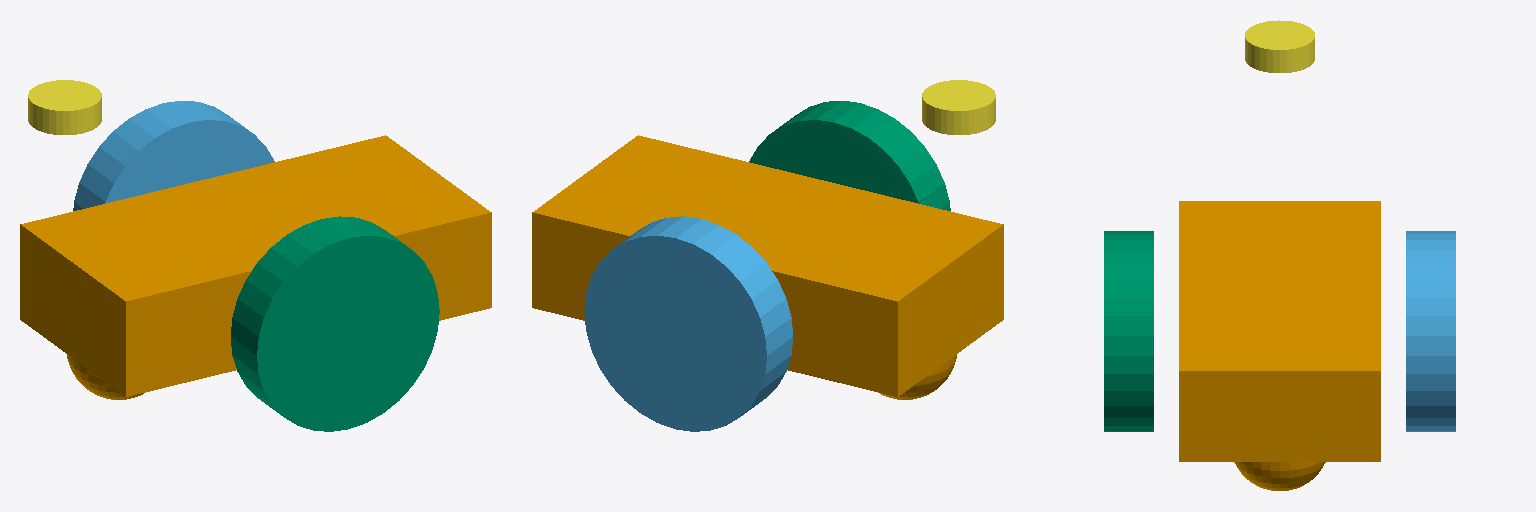
The robot description file, URDF, robot "test_diff_drive":
<?xml version="1.0" ?>
<!-- =================================================================================== -->
<!-- |    This document was autogenerated by xacro from 03_ROS/ghost_sim/urdf/test_tank_init.xacro | -->
<!-- |    EDITING THIS FILE BY HAND IS NOT RECOMMENDED                                 | -->
<!-- =================================================================================== -->
<robot name="test_diff_drive">
  <link name="base_link">
    <pose>0 0 0.1 0 0 0</pose>
    <inertial>
      <mass value="15.0"/>
      <origin rpy=" 0 0 0" xyz="0.0 0 0.1"/>
      <inertia ixx="0.1" ixy="0" ixz="0" iyy="0.1" iyz="0" izz="0.1"/>
    </inertial>
    <collision name="collision">
      <geometry>
        <box size=".4 .2 .1"/>
      </geometry>
    </collision>
    <visual name="chassis_visual">
      <origin rpy=" 0 0 0" xyz="0 0 0"/>
      <geometry>
        <box size=".4 .2 .1"/>
      </geometry>
    </visual>
    <collision name="caster_collision">
      <origin rpy=" 0 0 0" xyz="-0.15 0 -0.05"/>
      <geometry>
        <sphere radius="0.05"/>
      </geometry>
      <surface>
        <friction>
          <ode>
            <mu>0</mu>
            <mu2>0</mu2>
            <slip1>1.0</slip1>
            <slip2>1.0</slip2>
          </ode>
        </friction>
      </surface>
    </collision>
    <visual name="caster_visual">
      <origin rpy=" 0 0 0" xyz="-0.15 0 -0.05"/>
      <geometry>
        <sphere radius="0.05"/>
      </geometry>
    </visual>
    <collision name="caster_front_collision">
      <origin rpy=" 0 0 0" xyz="0.15 0 -0.05"/>
      <geometry>
        <sphere radius="0.05"/>
      </geometry>
      <surface>
        <friction>
          <ode>
            <mu>0</mu>
            <mu2>0</mu2>
            <slip1>1.0</slip1>
            <slip2>1.0</slip2>
          </ode>
        </friction>
      </surface>
    </collision>
    <visual name="caster_front_visual">
      <origin rpy=" 0 0 0" xyz="0.15 0 -0.05"/>
      <geometry>
        <sphere radius="0.05"/>
      </geometry>
    </visual>
  </link>
  <link name="left_wheel">
    <!--origin xyz="0.1 0.13 0.1" rpy="0 1.5707 1.5707"/-->
    <collision name="collision">
      <origin rpy="0 1.5707 1.5707" xyz="0 0 0"/>
      <geometry>
        <cylinder length="0.05" radius="0.1"/>
      </geometry>
    </collision>
    <visual name="left_wheel_visual">
      <origin rpy="0 1.5707 1.5707" xyz="0 0 0"/>
      <geometry>
        <cylinder length="0.05" radius="0.1"/>
      </geometry>
    </visual>
    <inertial>
      <origin rpy="0 1.5707 1.5707" xyz="0 0 0"/>
      <mass value="5"/>
      <inertia ixx=".1" ixy="0.0" ixz="0.0" iyy=".1" iyz="0.0" izz=".1"/>
    </inertial>
  </link>
  <link name="right_wheel">
    <!--origin xyz="0.1 -0.13 0.1" rpy="0 1.5707 1.5707"/-->
    <collision name="collision">
      <origin rpy="0 1.5707 1.5707" xyz="0 0 0"/>
      <geometry>
        <cylinder length="0.05" radius="0.1"/>
      </geometry>
    </collision>
    <visual name="right_wheel_visual">
      <origin rpy="0 1.5707 1.5707" xyz="0 0 0"/>
      <geometry>
        <cylinder length="0.05" radius="0.1"/>
      </geometry>
    </visual>
    <inertial>
      <origin rpy="0 1.5707 1.5707" xyz="0 0 0"/>
      <mass value="5"/>
      <inertia ixx=".1" ixy="0.0" ixz="0.0" iyy=".1" iyz="0.0" izz=".1"/>
    </inertial>
  </link>
  <joint name="left_wheel_hinge" type="continuous">
    <origin rpy="0 0 0" xyz="0 0.15 0"/>
    <!--origin xyz="0.1 0.13 0" rpy="0 1.5707 1.5707"/-->
    <child link="left_wheel"/>
    <parent link="base_link"/>
    <axis rpy="0 0 0" xyz="0 1 0"/>
    <limit effort="10000" velocity="1000"/>
    <joint_properties damping="1.0" friction="1.0"/>
  </joint>
  <joint name="right_wheel_hinge" type="continuous">
    <origin rpy="0 0 0" xyz="0 -0.15 0"/>
    <!--origin xyz="0.1 -0.13 0" rpy="0 1.5707 1.5707"/-->
    <child link="right_wheel"/>
    <parent link="base_link"/>
    <axis rpy="0 0 0" xyz="0 1 0"/>
    <limit effort="10000" velocity="1000"/>
    <joint_properties damping="1.0" friction="1.0"/>
  </joint>
  <!-- Sensors -->
  <link name="lidar_link">
    <inertial>
      <origin rpy="0 0 0" xyz="0.0 0 0.0"/>
      <mass value="0.125"/>
      <inertia ixx="0.001" ixy="0" ixz="0" iyy="0.001" iyz="0" izz="0.001"/>
    </inertial>
    <visual>
      <origin rpy="0 0 0" xyz="0 0 0"/>
      <geometry>
        <cylinder length="0.0254" radius="0.034925"/>
      </geometry>
    </visual>
  </link>
  <joint name="lidar_joint" type="fixed">
    <parent link="base_link"/>
    <child link="lidar_link"/>
    <origin rpy="0 0 1.179178353222222" xyz="-0.209 0 0.2145"/>
  </joint>
  <link name="imu_link">
    <inertial>
      <origin rpy="0 0 0" xyz="0.0 0 0.0"/>
      <mass value="0.125"/>
      <inertia ixx="0.001" ixy="0" ixz="0" iyy="0.001" iyz="0" izz="0.001"/>
    </inertial>
    <visual>
      <origin rpy="0 0 0" xyz="0 0 0"/>
      <geometry>
        <cylinder length="0.0254" radius="0.034925"/>
      </geometry>
    </visual>
  </link>
  <joint name="imu_joint" type="fixed">
    <parent link="base_link"/>
    <child link="imu_link"/>
    <origin rpy="0 0 1.179178353222222" xyz="-0.209 0 0.2145"/>
  </joint>
  <gazebo reference="lidar_link">
    <sensor name="lidar" type="ray">
      <always_on>true</always_on>
      <visualize>true</visualize>
      <update_rate>5</update_rate>
      <ray>
        <scan>
          <horizontal>
            <samples>360</samples>
            <resolution>1.000000</resolution>
            <min_angle>0.000000</min_angle>
            <max_angle>6.280000</max_angle>
          </horizontal>
        </scan>
        <range>
          <min>0.120000</min>
          <max>3.5</max>
          <resolution>0.015000</resolution>
        </range>
        <noise>
          <type>gaussian</type>
          <mean>0.0</mean>
          <stddev>0.01</stddev>
        </noise>
      </ray>
      <plugin filename="libgazebo_ros_ray_sensor.so" name="scan">
        <ros>
          <remapping>~/out:=scan</remapping>
        </ros>
        <output_type>sensor_msgs/LaserScan</output_type>
        <frame_name>lidar_link</frame_name>
      </plugin>
    </sensor>
  </gazebo>
  <gazebo reference="base_link">
    <sensor name="imu_sensor" type="imu">
      <plugin filename="libgazebo_ros_imu_sensor.so" name="imu_plugin">
        <ros>
          <remapping>~/out:=imu</remapping>
        </ros>
        <initial_orientation_as_reference>false</initial_orientation_as_reference>
      </plugin>
      <always_on>true</always_on>
      <update_rate>100</update_rate>
      <visualize>true</visualize>
      <imu>
        <angular_velocity>
          <x>
            <noise type="gaussian">
              <mean>0.0</mean>
              <stddev>2e-4</stddev>
              <bias_mean>0.0000075</bias_mean>
              <bias_stddev>0.0000008</bias_stddev>
            </noise>
          </x>
          <y>
            <noise type="gaussian">
              <mean>0.0</mean>
              <stddev>2e-4</stddev>
              <bias_mean>0.0000075</bias_mean>
              <bias_stddev>0.0000008</bias_stddev>
            </noise>
          </y>
          <z>
            <noise type="gaussian">
              <mean>0.0</mean>
              <stddev>2e-4</stddev>
              <bias_mean>0.0000075</bias_mean>
              <bias_stddev>0.0000008</bias_stddev>
            </noise>
          </z>
        </angular_velocity>
        <linear_acceleration>
          <x>
            <noise type="gaussian">
              <mean>0.0</mean>
              <stddev>1.7e-2</stddev>
              <bias_mean>0.1</bias_mean>
              <bias_stddev>0.001</bias_stddev>
            </noise>
          </x>
          <y>
            <noise type="gaussian">
              <mean>0.0</mean>
              <stddev>1.7e-2</stddev>
              <bias_mean>0.1</bias_mean>
              <bias_stddev>0.001</bias_stddev>
            </noise>
          </y>
          <z>
            <noise type="gaussian">
              <mean>0.0</mean>
              <stddev>1.7e-2</stddev>
              <bias_mean>0.1</bias_mean>
              <bias_stddev>0.001</bias_stddev>
            </noise>
          </z>
        </linear_acceleration>
      </imu>
    </sensor>
  </gazebo>
  <gazebo>
    <plugin filename="libgazebo_ros_diff_drive.so" name="gazebo_ros_diff_drive">
      <!-- Update rate in Hz -->
      <update_rate>30.0</update_rate>
      <!-- wheels -->
      <left_joint>left_wheel_hinge</left_joint>
      <right_joint>right_wheel_hinge</right_joint>
      <!-- kinematics -->
      <wheel_separation>1.25</wheel_separation>
      <wheel_diameter>0.6</wheel_diameter>
      <!-- limits -->
      <max_wheel_torque>20</max_wheel_torque>
      <max_wheel_acceleration>1.0</max_wheel_acceleration>
      <!-- input -->
      <command_topic>cmd_vel</command_topic>
      <!-- output: odometrySource 0 for ENCODER 1 for WORLD -->
      <odometrySource>1</odometrySource>
      <publish_odom>true</publish_odom>
      <publish_odom_tf>true</publish_odom_tf>
      <publish_wheel_tf>true</publish_wheel_tf>
      <odometry_topic>odom</odometry_topic>
      <odometry_frame>odom</odometry_frame>
      <robot_base_frame>base_link</robot_base_frame>
    </plugin>
  </gazebo>
</robot>

--- Facts derived from the render (not from the file) ---
Views: 3 orthographic renders of the robot side by side, from view 1: azimuth 30°, elevation 25°; view 2: azimuth 150°, elevation 25°; view 3: azimuth 270°, elevation 25°.
Robot: test_diff_drive — 5 links, 4 joints (2 continuous, 2 fixed); root link base_link; default pose: every joint at zero.
Links seen in each view (by area): view 1: base_link, right_wheel, left_wheel, lidar_link; view 2: base_link, left_wheel, right_wheel, lidar_link; view 3: base_link, left_wheel, right_wheel, lidar_link.
Boxes of the visible links, <box> form: base_link: <box>20,135,491,399</box>; right_wheel: <box>231,216,439,431</box>; left_wheel: <box>73,101,274,210</box>; lidar_link: <box>28,80,101,134</box>; base_link: <box>532,135,1003,399</box>; left_wheel: <box>584,216,792,431</box>; right_wheel: <box>749,101,950,210</box>; lidar_link: <box>922,80,995,134</box>; base_link: <box>1179,201,1380,490</box>; left_wheel: <box>1406,231,1455,431</box>; right_wheel: <box>1104,231,1153,431</box>; lidar_link: <box>1245,20,1314,72</box>.
Bounding box of the posed robot: 0.4439 × 0.35 × 0.3272 m (x, y, z).
Geometry: primitives only (box / cylinder / sphere), no mesh files.
